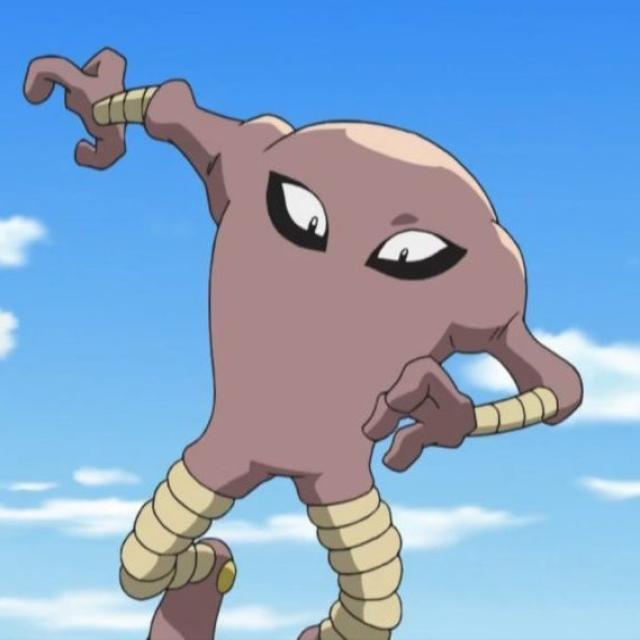Hitmonlee: (99, 86, 564, 640)
